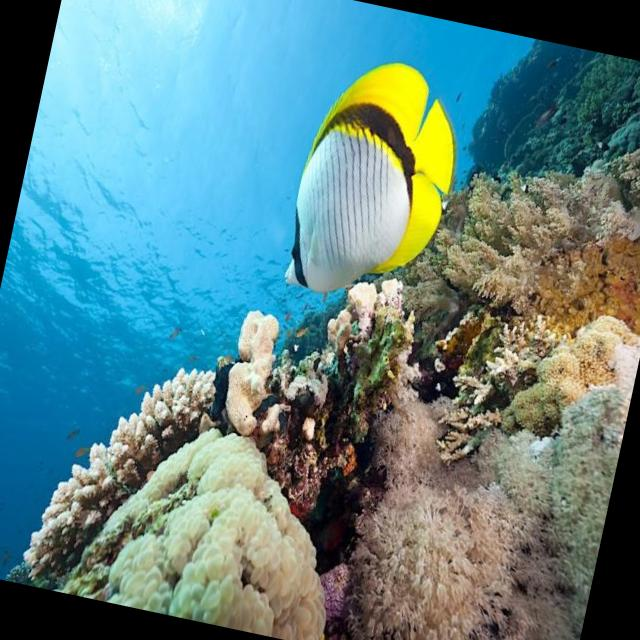ButterflyFish: (280, 48, 471, 314)
